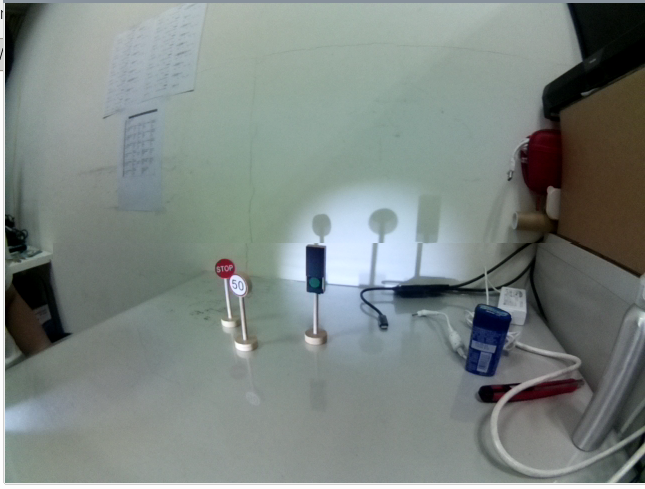Green: (304, 242, 329, 298)
Speed50: (228, 273, 254, 301)
Stop: (216, 258, 236, 279)
